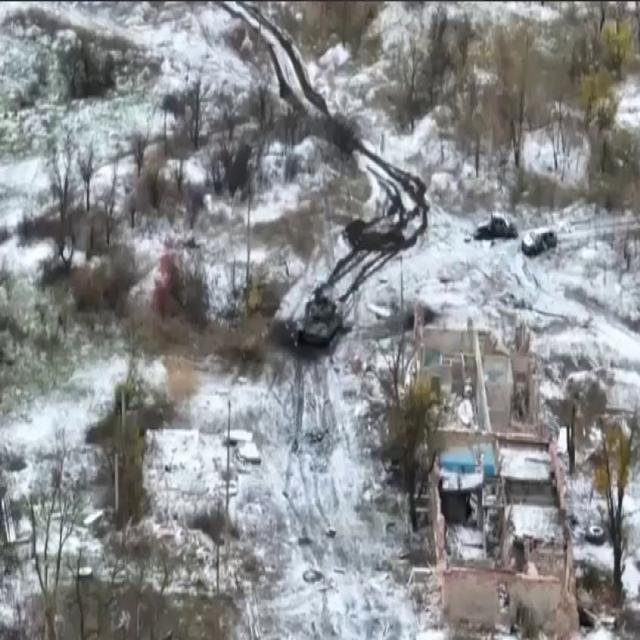fortification: (407, 280, 583, 640)
vehicle: (292, 280, 349, 358)
